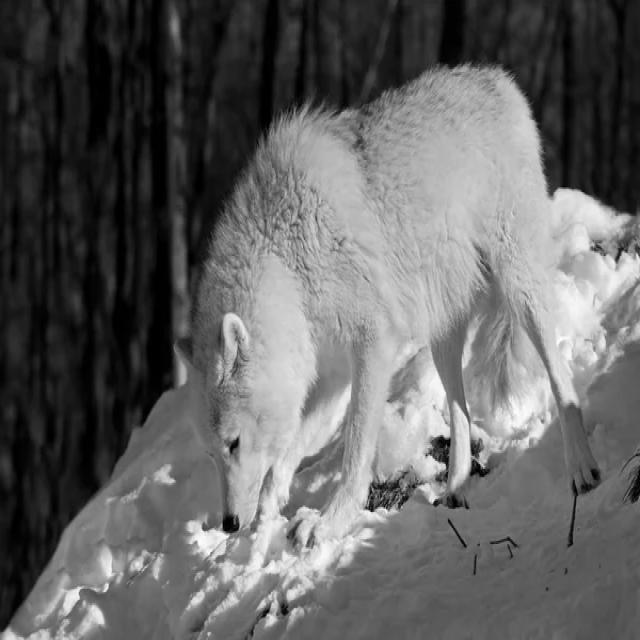Animal: (179, 66, 602, 548)
